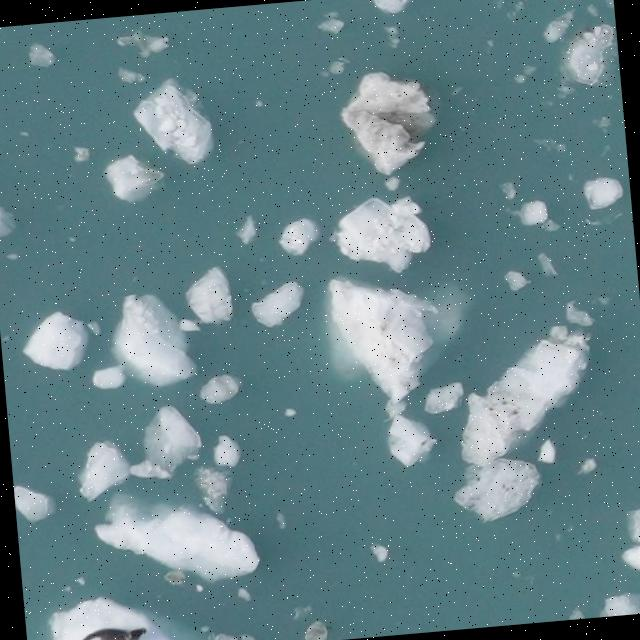seal: (80, 629, 144, 640)
